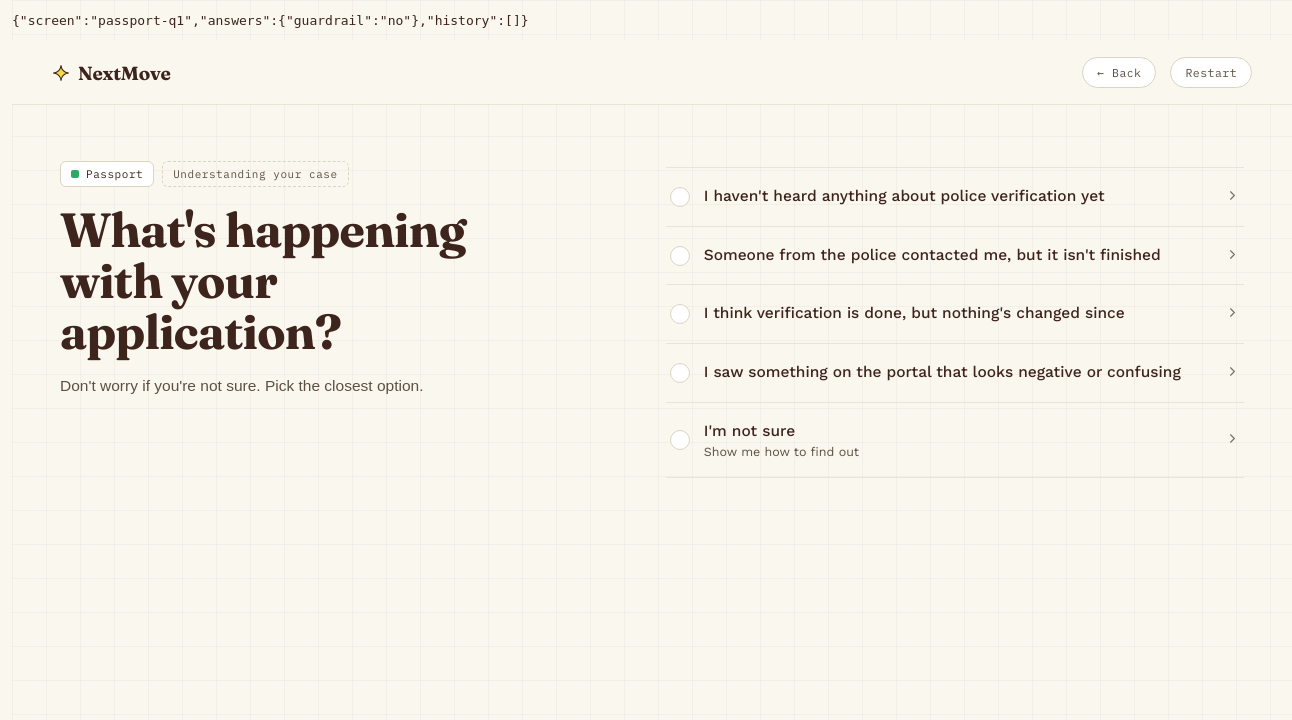
Test: passport flow › Q1 "I'm not sure" routes to recovery, and stores q1: not_sure
The image size is (1292, 720).
Step 1. Click the button "I'm not sure Show me how to find out" → (749, 431), box [666,403,1244,478]
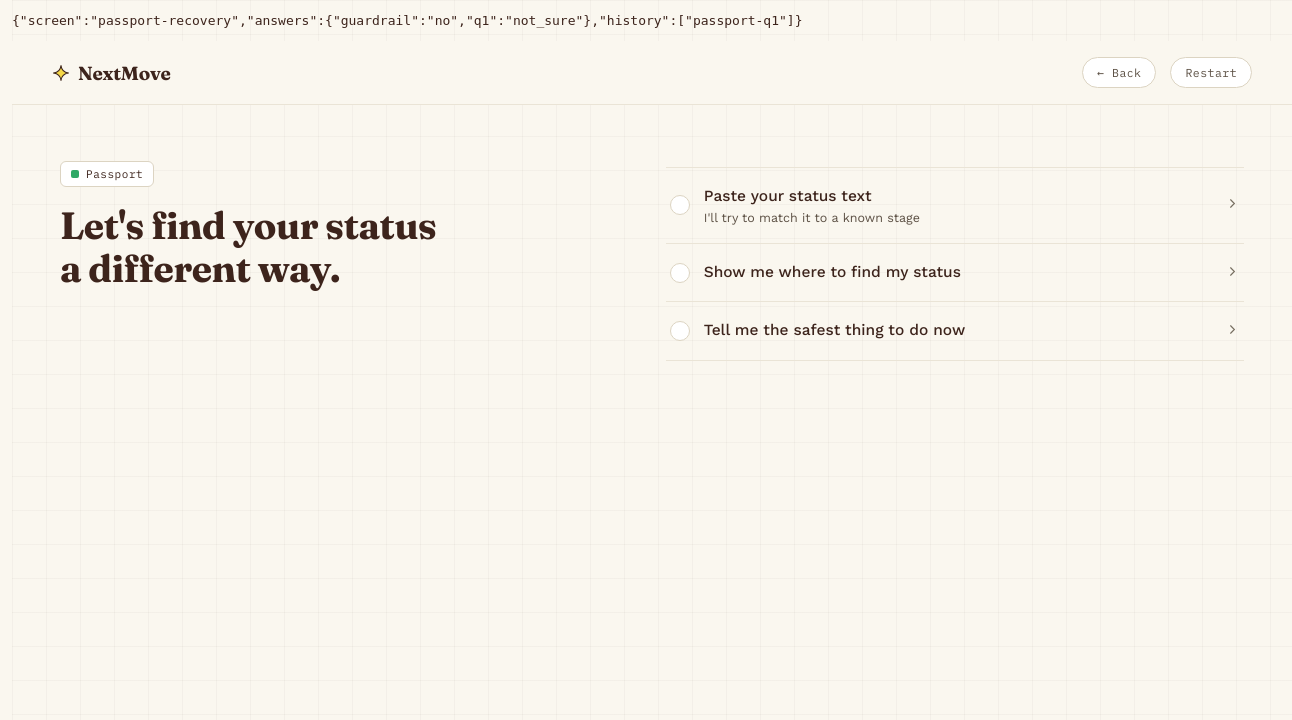
expect the heading "Let's find your status a different way." is shown: met, box [60,202,436,292]
